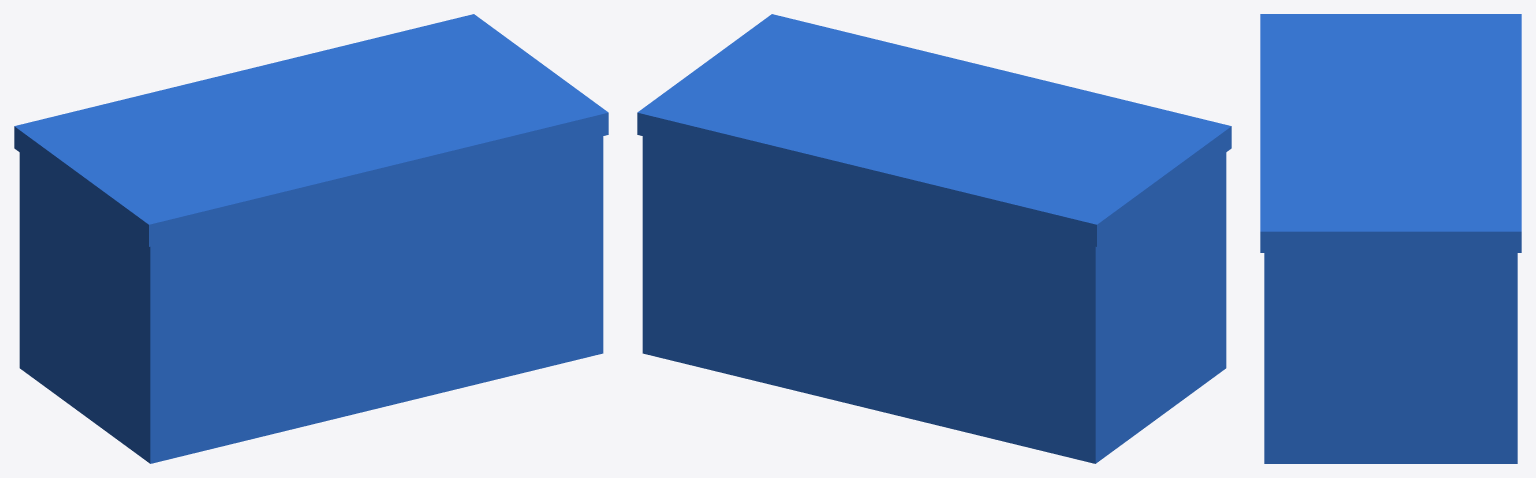
The picture shows the model from 3 angles, left to right: view 1: azimuth 30°, elevation 25°; view 2: azimuth 150°, elevation 25°; view 3: azimuth 270°, elevation 25°; orthographic projection. The views are drawn at different scales.
Visible parts, largest first — view 1: Low_Poly_Box_02, Low_Poly_Box_02_Lid; view 2: Low_Poly_Box_02, Low_Poly_Box_02_Lid; view 3: Low_Poly_Box_02_Lid, Low_Poly_Box_02.
Boxes of the visible parts, left/top/right/bottom form: Low_Poly_Box_02: left=19, top=136, right=603, bottom=463; Low_Poly_Box_02_Lid: left=14, top=14, right=608, bottom=246; Low_Poly_Box_02: left=642, top=136, right=1226, bottom=463; Low_Poly_Box_02_Lid: left=637, top=14, right=1231, bottom=246; Low_Poly_Box_02_Lid: left=1260, top=14, right=1521, bottom=252; Low_Poly_Box_02: left=1264, top=253, right=1517, bottom=463.
Bounding box in the file's own units: 203 × 102 × 103.
